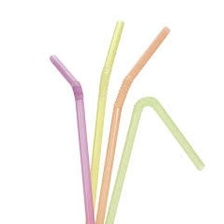drinking_straw: (102, 90, 209, 224), (42, 49, 97, 223)
